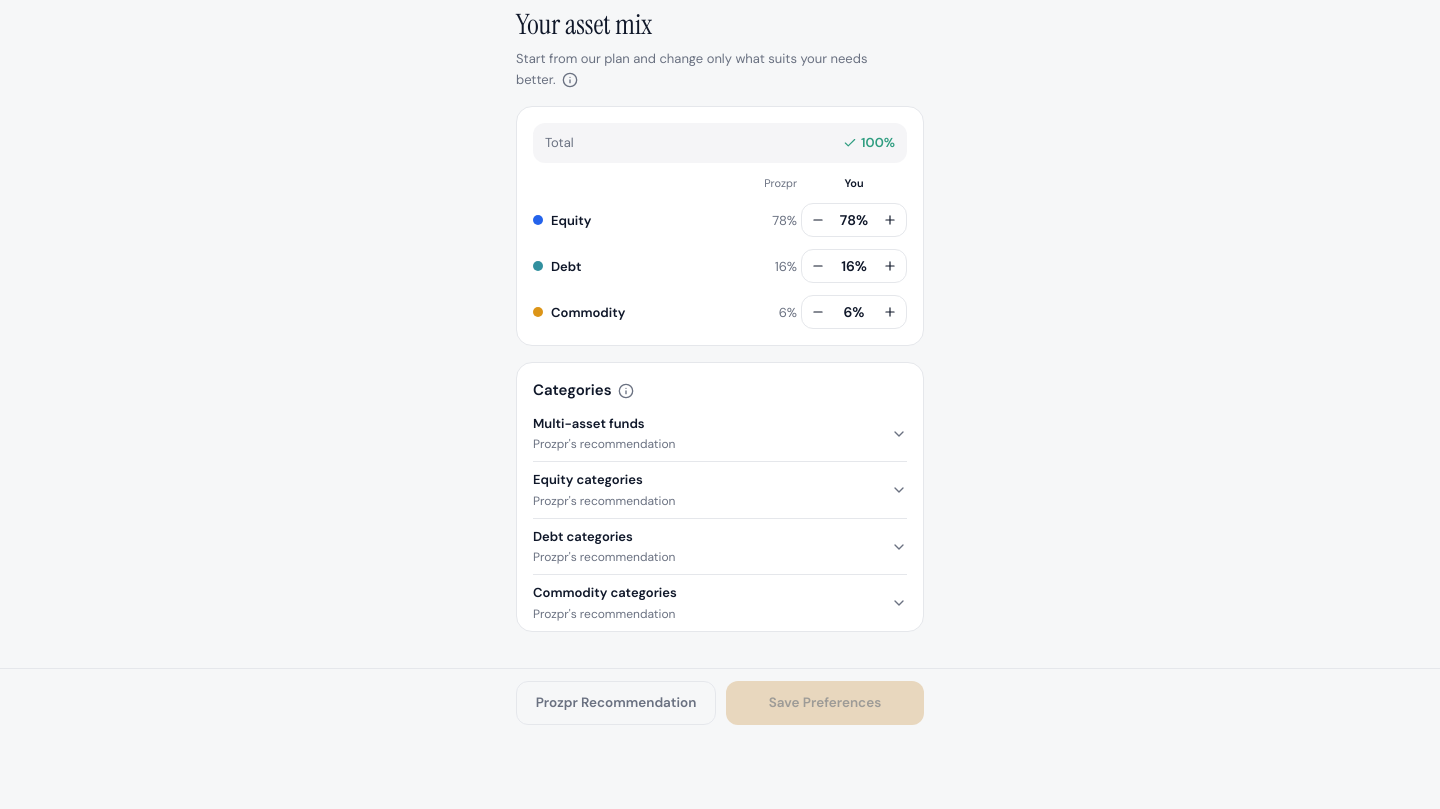
Scenario: InvestPreferences — categories › opens one group at a time
The width and height of the screenshot is (1440, 809).
Click the button "Equity categories Prozpr's recommendation" at (588, 480), box [533, 462, 907, 518]
(page scrolled)
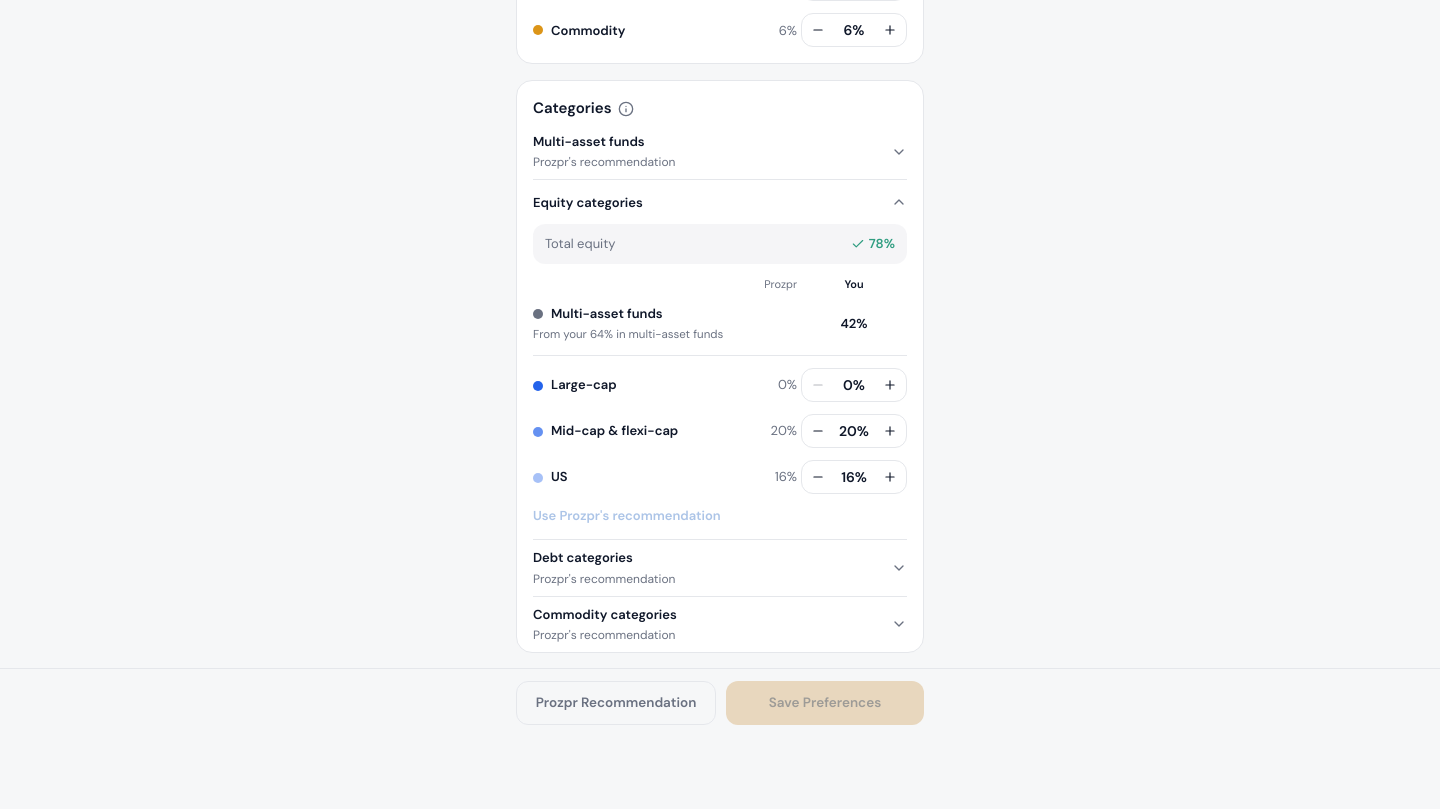
Click the button "Debt categories Prozpr's recommendation" at (583, 558), box [533, 540, 907, 596]
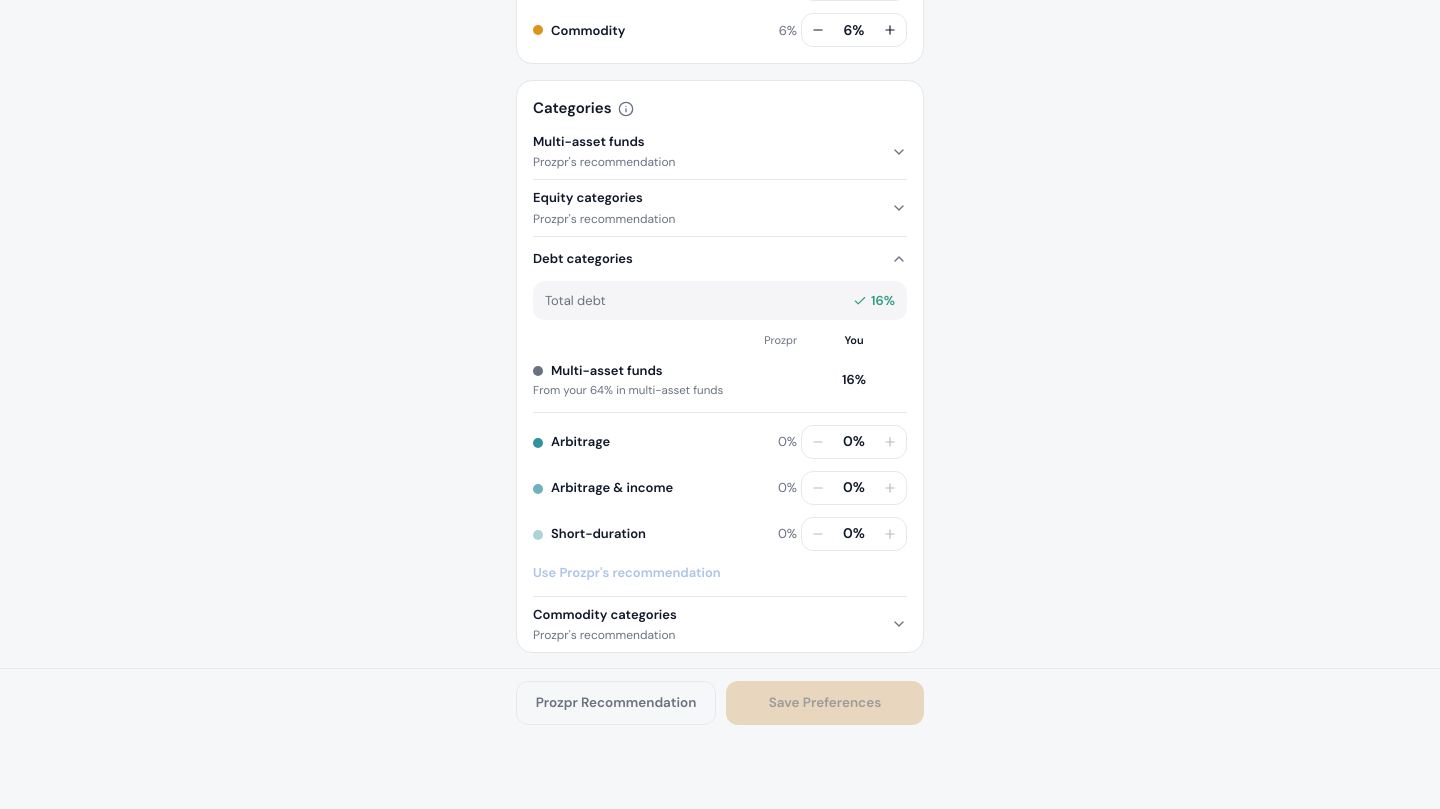
expect the button "Equity categories Prozpr's recommendation" is collapsed: met, box [533, 180, 907, 236]
expect the button named "Increase Short-duration" is shown: met, box [874, 518, 906, 550]
